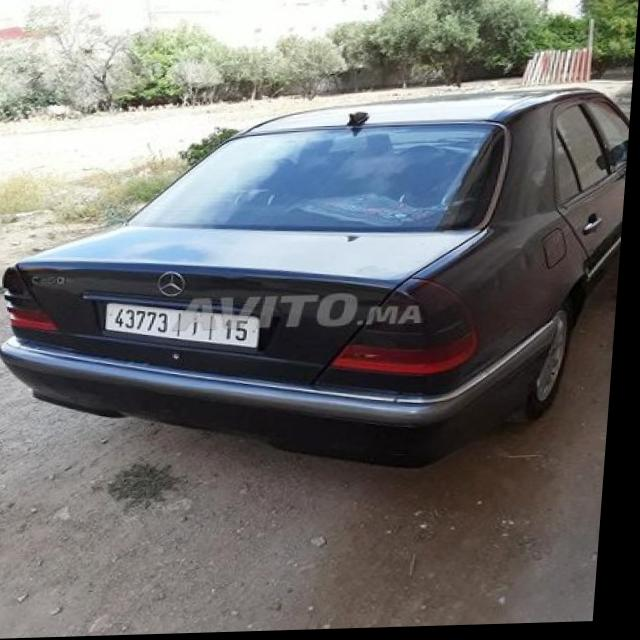License-Plate: (112, 305, 266, 349)
